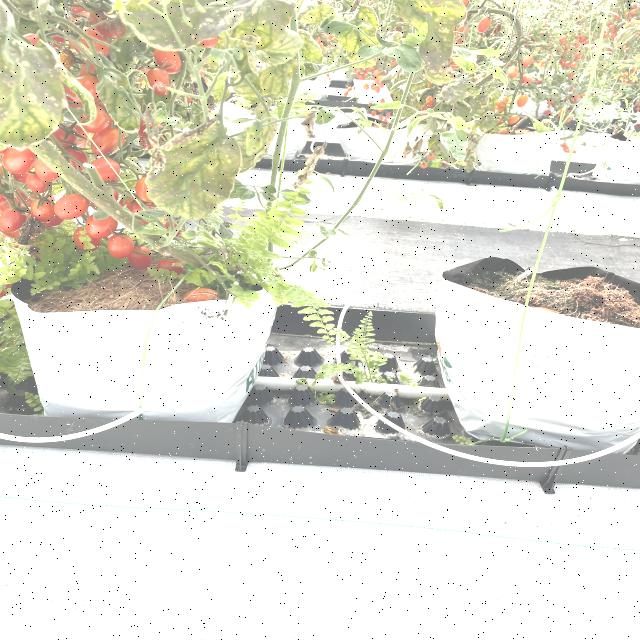Obstacle: (330, 282, 639, 469), (0, 281, 237, 442)
Soilbag: (24, 253, 262, 430), (445, 274, 640, 458)
Tomato: (14, 34, 150, 246)
plant: (17, 8, 273, 278)
